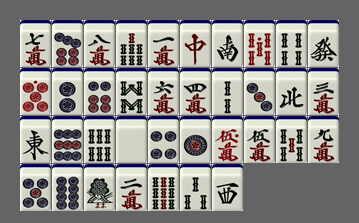0m: (212, 116, 243, 163)
0p: (20, 68, 51, 115)
0s: (244, 20, 275, 67)
1m: (148, 20, 179, 67)
1p: (180, 116, 211, 163)
1s: (84, 164, 115, 211)
1z: (20, 116, 51, 163)
2m: (116, 164, 147, 211)
2p: (52, 68, 83, 115)
2s: (212, 68, 243, 115)
2z: (212, 20, 243, 67)
3m: (308, 68, 339, 115)
3p: (244, 68, 275, 115)
3s: (180, 164, 211, 211)
3z: (212, 164, 243, 211)
4m: (180, 68, 211, 115)
4p: (148, 116, 179, 163)
4s: (276, 20, 307, 67)
4z: (276, 68, 307, 115)
5m: (244, 116, 275, 163)
5p: (20, 164, 51, 211)
5s: (276, 116, 307, 163)
5z: (116, 116, 147, 163)
6m: (148, 68, 179, 115)
6p: (84, 68, 115, 115)
6s: (84, 116, 115, 163)
6z: (308, 20, 339, 67)
7m: (20, 20, 51, 67)
7p: (52, 20, 83, 67)
7s: (116, 20, 147, 67)
7z: (180, 20, 211, 67)
8m: (84, 20, 115, 67)
8p: (52, 164, 83, 211)
8s: (116, 68, 147, 115)
9m: (308, 116, 339, 163)
9p: (52, 116, 83, 163)
9s: (148, 164, 179, 211)
